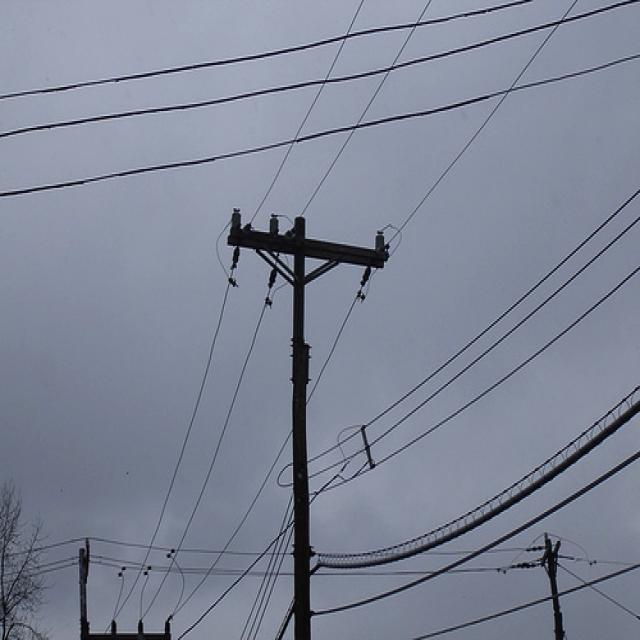crossarm: (229, 208, 389, 287)
pole: (292, 217, 310, 640)
wire: (161, 3, 571, 631), (136, 1, 435, 622), (155, 2, 366, 546), (2, 52, 640, 202), (309, 183, 639, 464), (1, 3, 621, 143), (313, 390, 639, 576), (379, 257, 636, 471), (317, 448, 638, 619), (3, 1, 530, 103)
